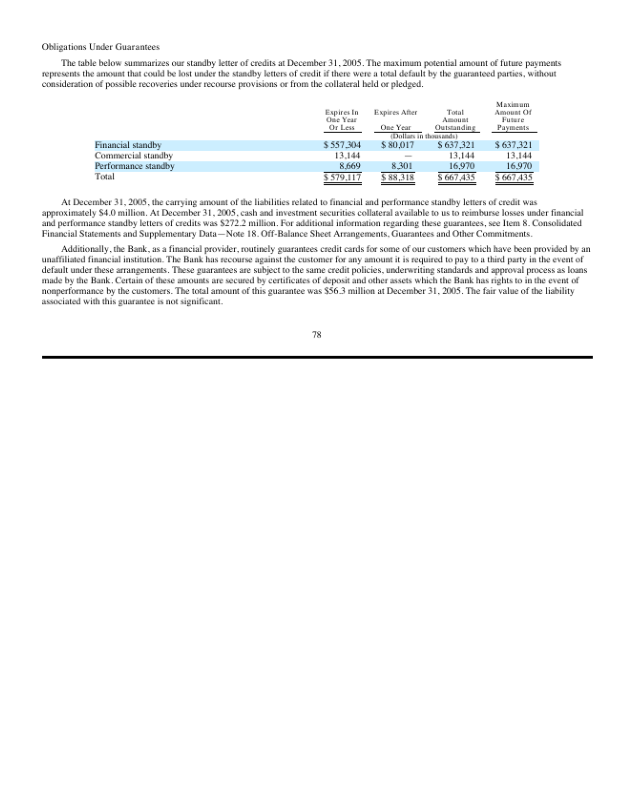table: (373, 106, 424, 190), (428, 104, 476, 188), (492, 98, 532, 185), (322, 100, 362, 185)
